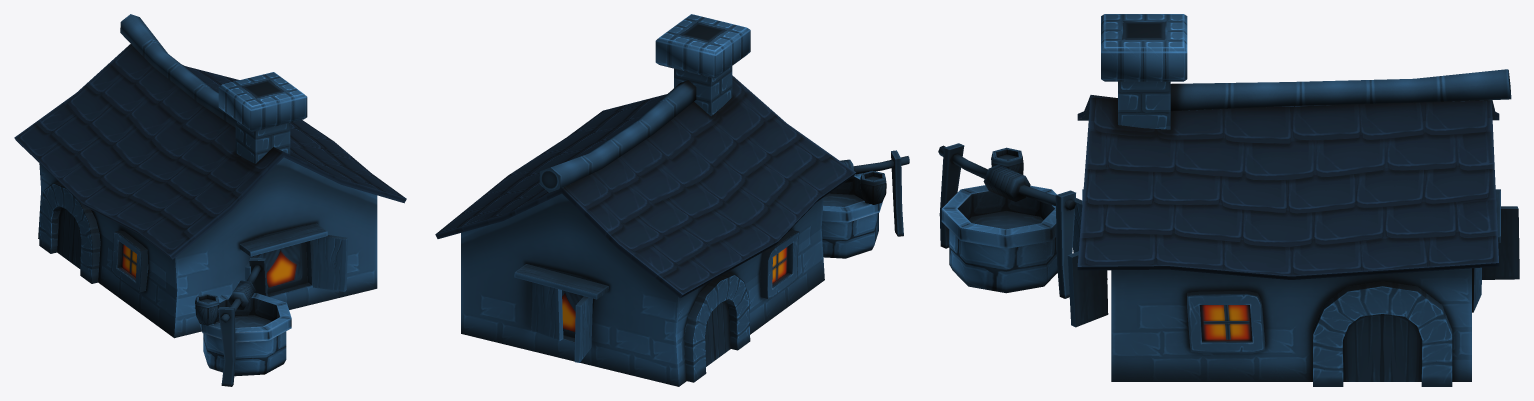
File: House1.FBX
3 views of the same model, side by side, from view 1: azimuth 30°, elevation 25°; view 2: azimuth 150°, elevation 25°; view 3: azimuth 270°, elevation 25° (orthographic). The views are drawn at different scales.
Visible parts, largest first — view 1: House1; view 2: House1; view 3: House1.
Boxes of the visible parts, left/top/right/bottom form: House1: left=14, top=14, right=406, bottom=386; House1: left=435, top=14, right=909, bottom=386; House1: left=938, top=14, right=1519, bottom=386.
Bounding box in the file's own units: 189 × 154 × 284.
